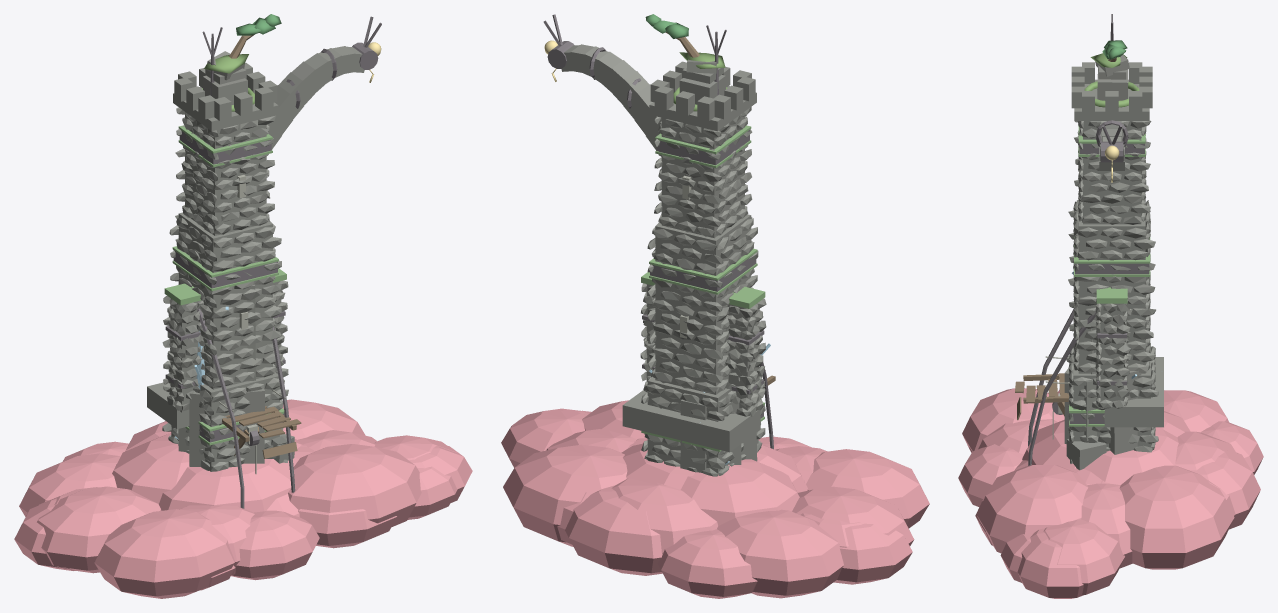
Rendered from ThunderF28Kit.fbx.
3 views of the same model, side by side, from view 1: azimuth 30°, elevation 25°; view 2: azimuth 150°, elevation 25°; view 3: azimuth 270°, elevation 25° (orthographic). The views are drawn at different scales.
Visible parts, largest first — view 1: CloudBankLayer__ALT, CrownAnchorTower__STONE, SnappedBridgeStub__STONE, SeaStackSpire__STONE, CrownAnchorTower__METAL, CrownAnchorTower__ACCENT, SnappedBridgeStub__METAL, SnappedBridgeStub__WOOD, SnappedBridgeStub__ACCENT; view 2: CloudBankLayer__ALT, CrownAnchorTower__STONE, SnappedBridgeStub__STONE, CrownAnchorTower__METAL, SeaStackSpire__STONE, CrownAnchorTower__ACCENT, SnappedBridgeStub__METAL, SnappedBridgeStub__ACCENT, SeaStackSpire__FOLIAGE; view 3: CloudBankLayer__ALT, CrownAnchorTower__STONE, SnappedBridgeStub__STONE, SeaStackSpire__STONE, CrownAnchorTower__METAL, SnappedBridgeStub__METAL, CrownAnchorTower__ACCENT, SnappedBridgeStub__WOOD, SnappedBridgeStub__ACCENT.
Boxes of the visible parts, <box> form: CloudBankLayer__ALT: <box>14,399,472,598</box>; CrownAnchorTower__STONE: <box>162,46,364,471</box>; SnappedBridgeStub__STONE: <box>147,280,288,429</box>; SeaStackSpire__STONE: <box>178,51,294,466</box>; CrownAnchorTower__METAL: <box>173,16,381,442</box>; CrownAnchorTower__ACCENT: <box>172,125,284,445</box>; SnappedBridgeStub__METAL: <box>165,308,295,508</box>; SnappedBridgeStub__WOOD: <box>222,406,301,458</box>; SnappedBridgeStub__ACCENT: <box>164,268,286,305</box>; CloudBankLayer__ALT: <box>501,400,929,598</box>; CrownAnchorTower__STONE: <box>561,44,765,476</box>; SnappedBridgeStub__STONE: <box>622,283,766,452</box>; CrownAnchorTower__METAL: <box>543,14,763,418</box>; SeaStackSpire__STONE: <box>679,59,757,472</box>; CrownAnchorTower__ACCENT: <box>641,125,764,451</box>; SnappedBridgeStub__METAL: <box>642,314,773,449</box>; SnappedBridgeStub__ACCENT: <box>641,272,765,308</box>; SeaStackSpire__FOLIAGE: <box>645,14,688,38</box>; CloudBankLayer__ALT: <box>958,388,1263,598</box>; CrownAnchorTower__STONE: <box>1066,62,1158,463</box>; SnappedBridgeStub__STONE: <box>1095,296,1163,427</box>; SeaStackSpire__STONE: <box>1064,55,1141,470</box>; CrownAnchorTower__METAL: <box>1069,14,1149,423</box>; SnappedBridgeStub__METAL: <box>1028,308,1126,465</box>; CrownAnchorTower__ACCENT: <box>1069,125,1150,426</box>; SnappedBridgeStub__WOOD: <box>1015,373,1069,420</box>; SnappedBridgeStub__ACCENT: <box>1096,287,1127,303</box>.
Bounding box in the file's own units: 63.02 × 74.43 × 41.38.
